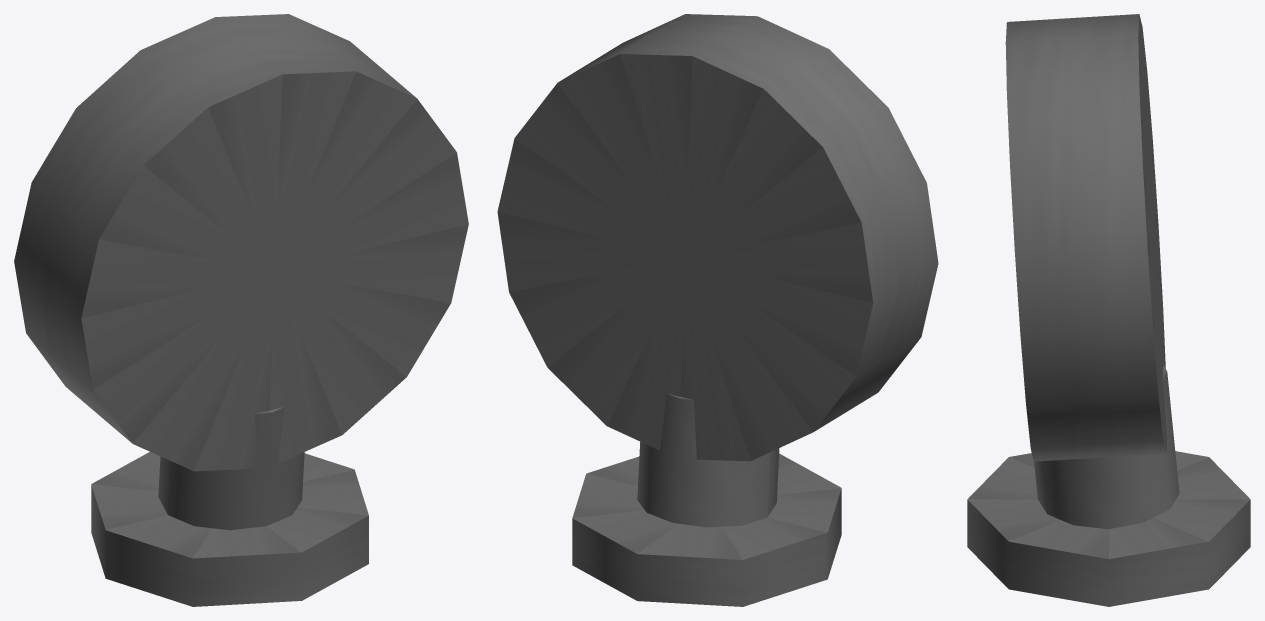
Rendered from mastarmcurve_4x1_c4_down.obj.
3 views of the same model, side by side, from view 1: azimuth 30°, elevation 25°; view 2: azimuth 150°, elevation 25°; view 3: azimuth 270°, elevation 25° (orthographic). The views are drawn at different scales.
Visible parts, largest first — view 1: mastarm_4x1_c4_down; view 2: mastarm_4x1_c4_down; view 3: mastarm_4x1_c4_down.
Boxes of the visible parts, x1,y1,x2,y2 form: mastarm_4x1_c4_down: [14, 14, 468, 606]; mastarm_4x1_c4_down: [497, 14, 938, 606]; mastarm_4x1_c4_down: [967, 14, 1250, 606].
Size of the model in its own units: 0.6225 by 0.7985 by 0.4.
